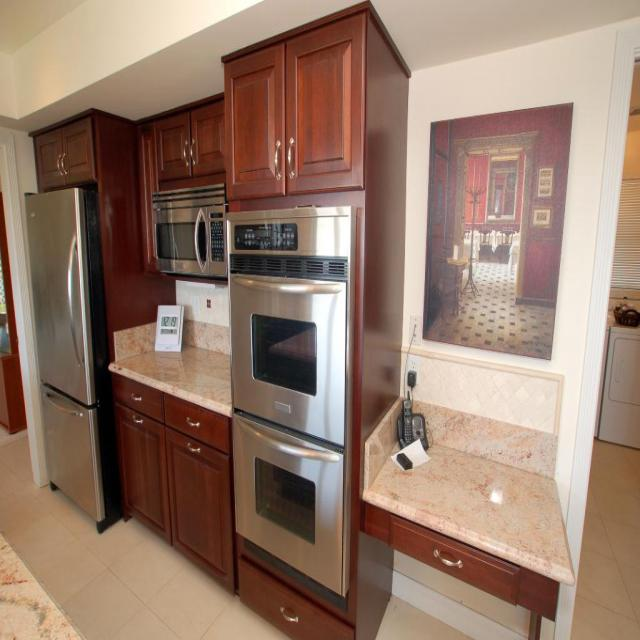Handle: (64, 238, 84, 364), (242, 273, 326, 297), (247, 428, 294, 458), (431, 548, 470, 574), (286, 132, 302, 188), (272, 140, 289, 190), (191, 214, 204, 266), (186, 439, 207, 469), (130, 412, 153, 437)
door: (166, 430, 234, 570), (229, 56, 284, 196), (115, 407, 166, 528), (192, 114, 228, 180), (153, 124, 190, 181)
oven: (227, 212, 347, 392), (240, 422, 348, 580), (154, 200, 225, 270)
phone: (400, 400, 424, 448)
refrigerator: (23, 196, 107, 508)
